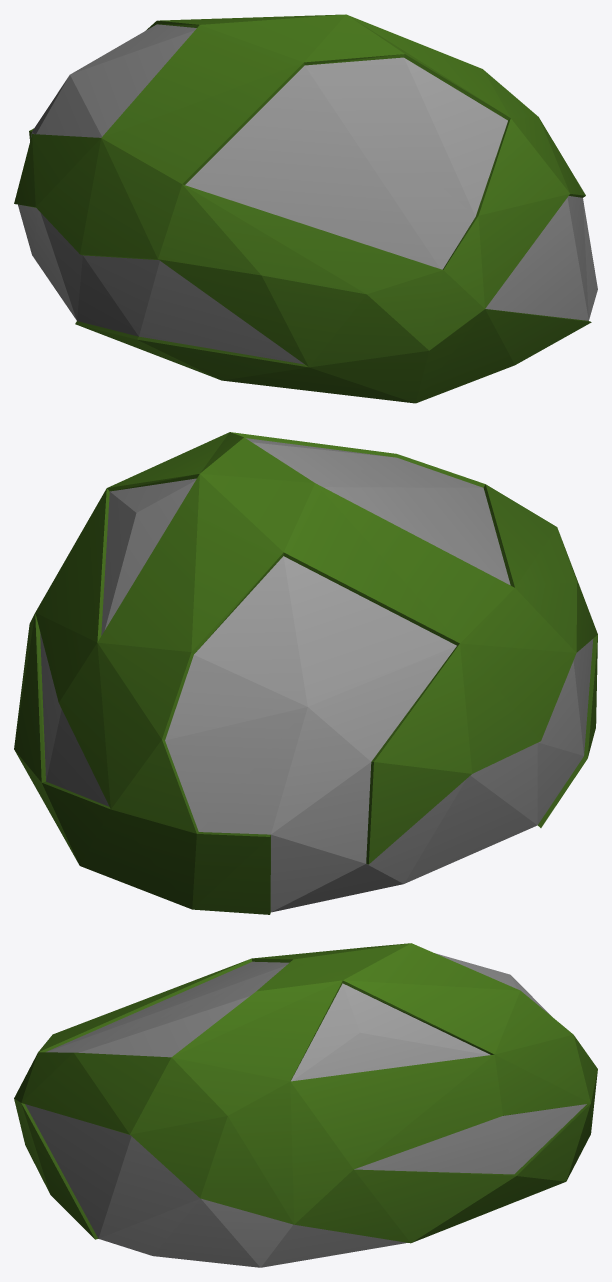
The model's file is forest_rock_02.glb.
3 renders of one model, top to bottom at view 1: azimuth 30°, elevation 25°; view 2: azimuth 150°, elevation 25°; view 3: azimuth 270°, elevation 25°, orthographic. The views are drawn at different scales.
Parts seen in each view (by area): view 1: Stone_average_01_mossy; view 2: Stone_average_01_mossy; view 3: Stone_average_01_mossy.
Part boxes in pixels (bbox=[...]): Stone_average_01_mossy: bbox=[14, 14, 597, 403]; Stone_average_01_mossy: bbox=[14, 432, 597, 914]; Stone_average_01_mossy: bbox=[14, 943, 597, 1267].
Bounding box in the file's own units: 1.85 × 0.9214 × 2.29.
1 material, 1 textured.
